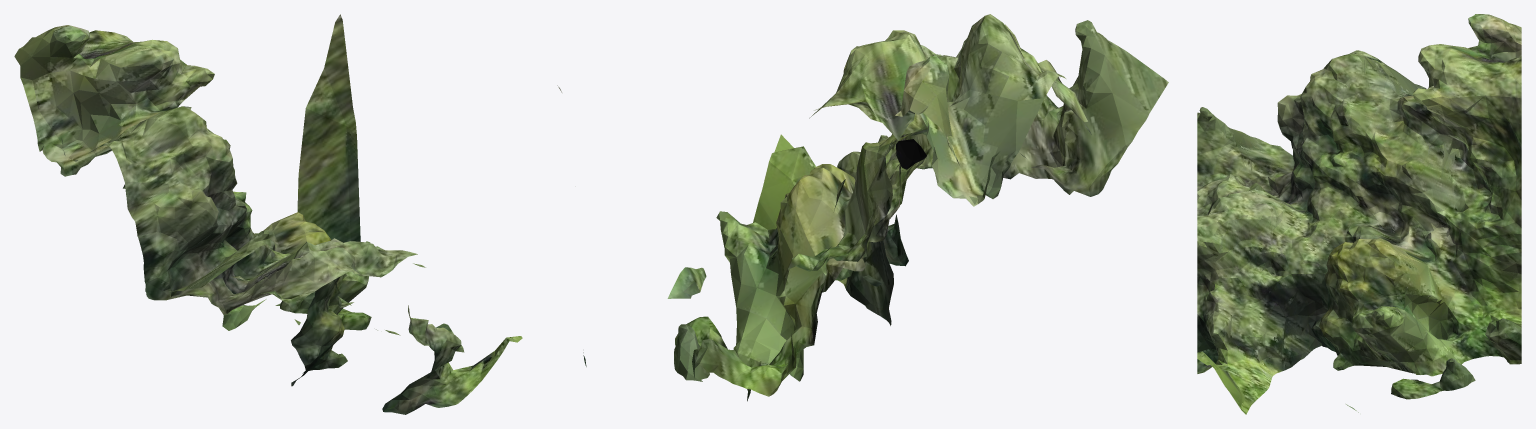
3 views of the same model, side by side, from view 1: azimuth 30°, elevation 25°; view 2: azimuth 150°, elevation 25°; view 3: azimuth 270°, elevation 25° (orthographic). The views are drawn at different scales.
Size of the model in its own units: 26.11 by 24.7 by 26.11.
Materials: 4 (4 with a texture image).
